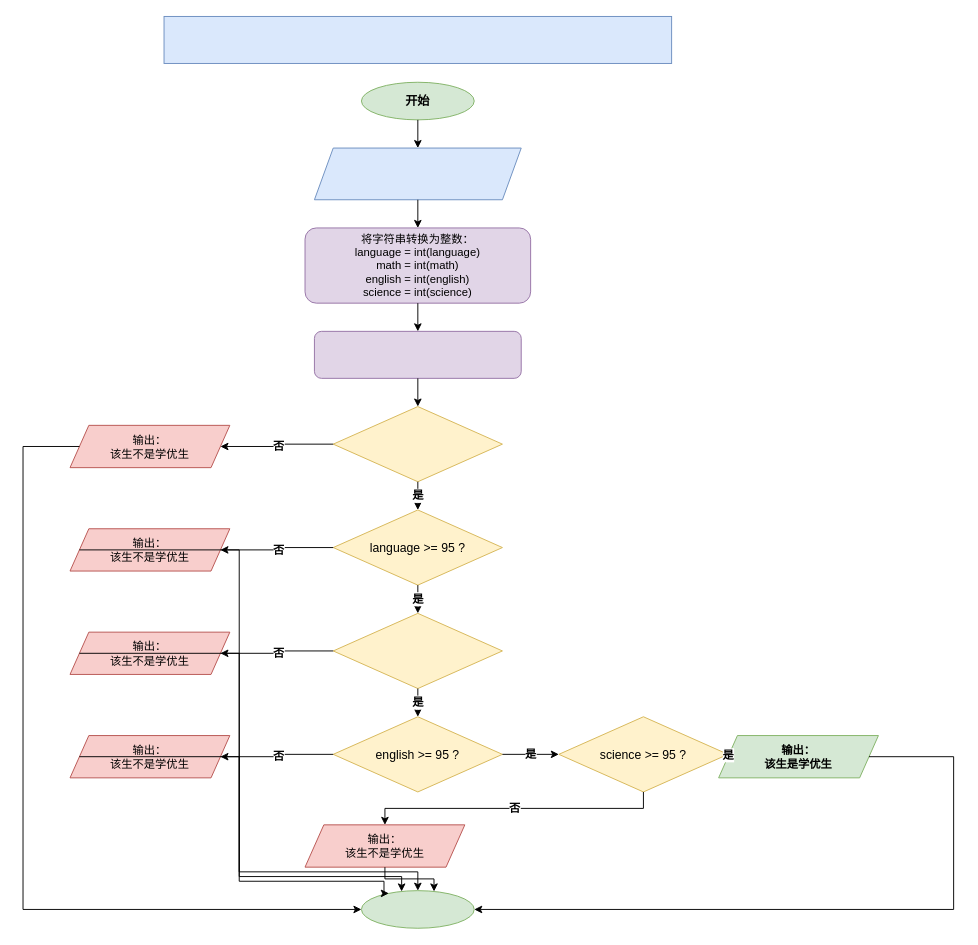
The diagram is 978 pixels wide and 945 high, and some of its shapes have lost their labels. The shapes that lost their labels are listed below. From the top down, each one's box as (x1, y1, x2, y2) in pixels, then its label:
(163, 16, 672, 63): 四科成绩评优 — 修复后算法流程图 评优规则：总分 ≥ 380 且 每科 ≥ 95 → 学优生
(313, 147, 521, 200): 输入四科成绩（字符串） language, math, english, science = input().split(' ')
(313, 330, 521, 378): 计算总分： total = language + math + english + science
(332, 406, 502, 482): total >= 380 ?
(332, 612, 502, 689): math >= 95 ?
(360, 890, 474, 928): 结束
